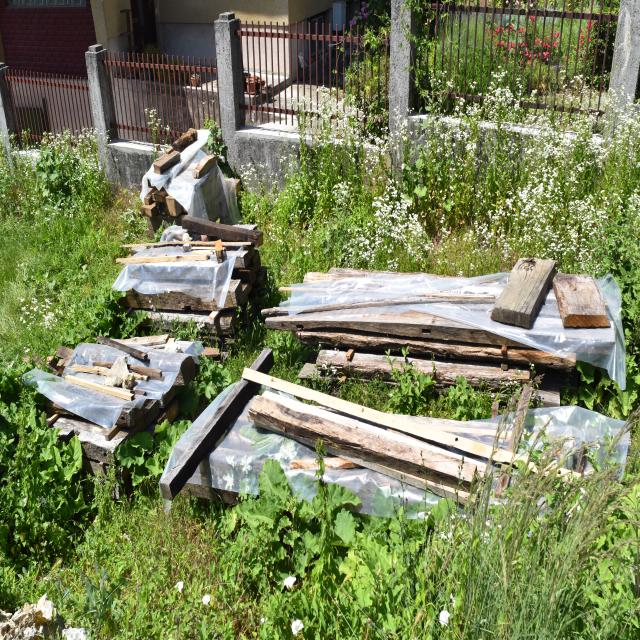entulho: (240, 379, 494, 512), (29, 339, 198, 450), (490, 399, 631, 530), (258, 280, 499, 348), (148, 376, 263, 500), (121, 237, 254, 331), (496, 260, 620, 360), (140, 135, 237, 236), (181, 214, 267, 246)
